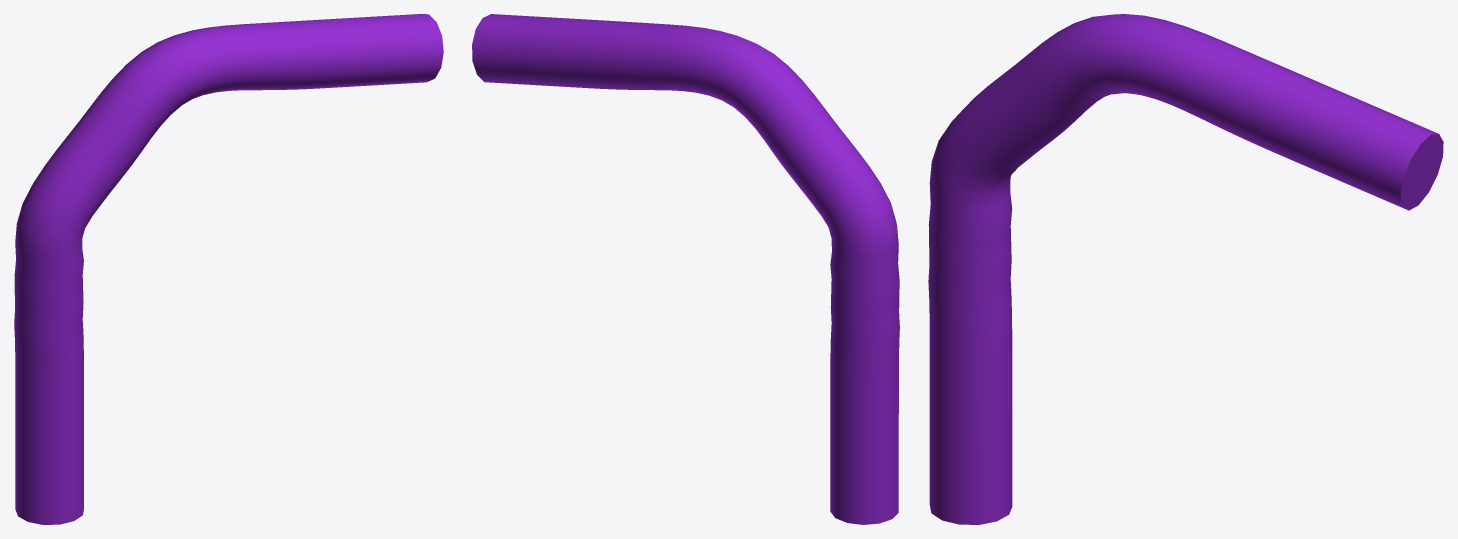
File: BackgroundTube.obj
The picture shows the model from 3 angles, left to right: view 1: azimuth 30°, elevation 25°; view 2: azimuth 150°, elevation 25°; view 3: azimuth 330°, elevation 25°; orthographic projection. The views are drawn at different scales.
Visible parts, largest first — view 1: default; view 2: default; view 3: default.
Part boxes in pixels (x1,y1,x2,y2): default: (14,14,443,524); default: (472,14,899,524); default: (928,14,1443,524).
Bounding box in the file's own units: 8.83 × 9.04 × 1.27.
